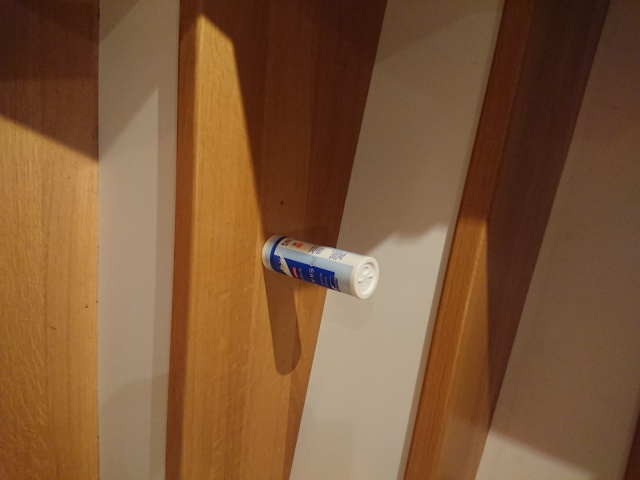Solana Pag Fine Sea Salt 250g: (258, 231, 382, 301)
